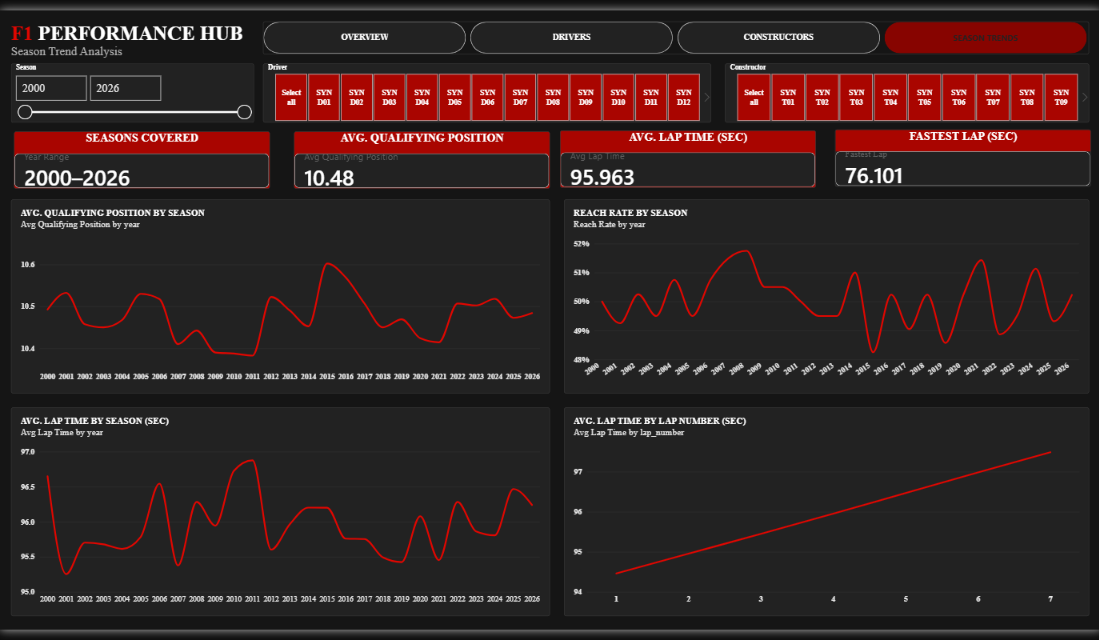

The dashboard page shown, as its layout file describes it:
{"tool":"powerbi","page":{"name":"SEASON TRENDS","canvas":[1920,1080],"ordinal":3},"visuals":[{"type":"textbox","box":[19.2,19.2,423.8,73.3],"z":10},{"type":"pageNavigator","box":[458.7,19.2,1440.7,57.6],"z":30},{"type":"slicer","fields":{"Values":["DimSeason.year"]},"box":[19.2,92.4,423.8,102.9],"z":40},{"type":"slicer","fields":{"Values":["DimDriver.Driver"]},"box":[458.7,92.4,781.4,102.9],"z":50},{"type":"slicer","fields":{"Values":["DimConstructor.Constructor"]},"box":[1264.5,92.4,634.9,102.9],"z":60},{"type":"cardVisual","title":"SEASONS COVERED","fields":{"Data":["Qualifying.Year Range"]},"box":[24.4,211,446,100],"z":80},{"type":"cardVisual","title":"AVG. QUALIFYING POSITION","fields":{"Data":["Qualifying.Avg Qualifying Position"]},"box":[512.8,211,446,100],"z":100},{"type":"cardVisual","title":"AVG. LAP TIME (SEC)","fields":{"Data":["LapTimes.Avg Lap Time"]},"box":[976.7,209.3,446,100],"z":120},{"type":"cardVisual","title":"FASTEST LAP (SEC)","fields":{"Data":["LapTimes.Fastest Lap"]},"box":[1456.4,207.6,446,100],"z":140},{"type":"lineChart","title":"AVG. QUALIFYING POSITION BY SEASON","fields":{"Category":["DimSeason.year"],"Y":["Qualifying.Avg Qualifying Position"]},"box":[19.2,329.7,940.1,338.4],"z":150},{"type":"lineChart","title":"REACH RATE BY SEASON ","fields":{"Category":["DimSeason.year"],"Y":["Qualifying.Q3 Reach Rate"]},"box":[983.7,329.7,915.7,338.4],"z":160},{"type":"lineChart","title":"AVG. LAP TIME BY SEASON (SEC)","fields":{"Category":["DimSeason.year"],"Y":["LapTimes.Avg Lap Time"]},"box":[20,692,940,364],"z":170},{"type":"lineChart","title":"AVG. LAP TIME BY LAP NUMBER (SEC) ","fields":{"Category":["LapTimes.synthetic_lap_number"],"Y":["LapTimes.Avg Lap Time"]},"box":[984,692,916,364],"z":180}]}

Visuals, with their boxes on the page's 1920x1080 design canvas (x1, y1, x2, y2). These are canvas units, not pixel positions in the 1099x640 screenshot, which may show the page scaled, cropped or inside an application window:
textbox: Rect(19, 19, 443, 92)
pageNavigator: Rect(459, 19, 1899, 77)
slicer - DimSeason.year: Rect(19, 92, 443, 195)
slicer - DimDriver.Driver: Rect(459, 92, 1240, 195)
slicer - DimConstructor.Constructor: Rect(1264, 92, 1899, 195)
"SEASONS COVERED" cardVisual: Rect(24, 211, 470, 311)
"AVG. QUALIFYING POSITION" cardVisual: Rect(513, 211, 959, 311)
"AVG. LAP TIME (SEC)" cardVisual: Rect(977, 209, 1423, 309)
"FASTEST LAP (SEC)" cardVisual: Rect(1456, 208, 1902, 308)
"AVG. QUALIFYING POSITION BY SEASON" lineChart: Rect(19, 330, 959, 668)
"REACH RATE BY SEASON " lineChart: Rect(984, 330, 1899, 668)
"AVG. LAP TIME BY SEASON (SEC)" lineChart: Rect(20, 692, 960, 1056)
"AVG. LAP TIME BY LAP NUMBER (SEC) " lineChart: Rect(984, 692, 1900, 1056)
